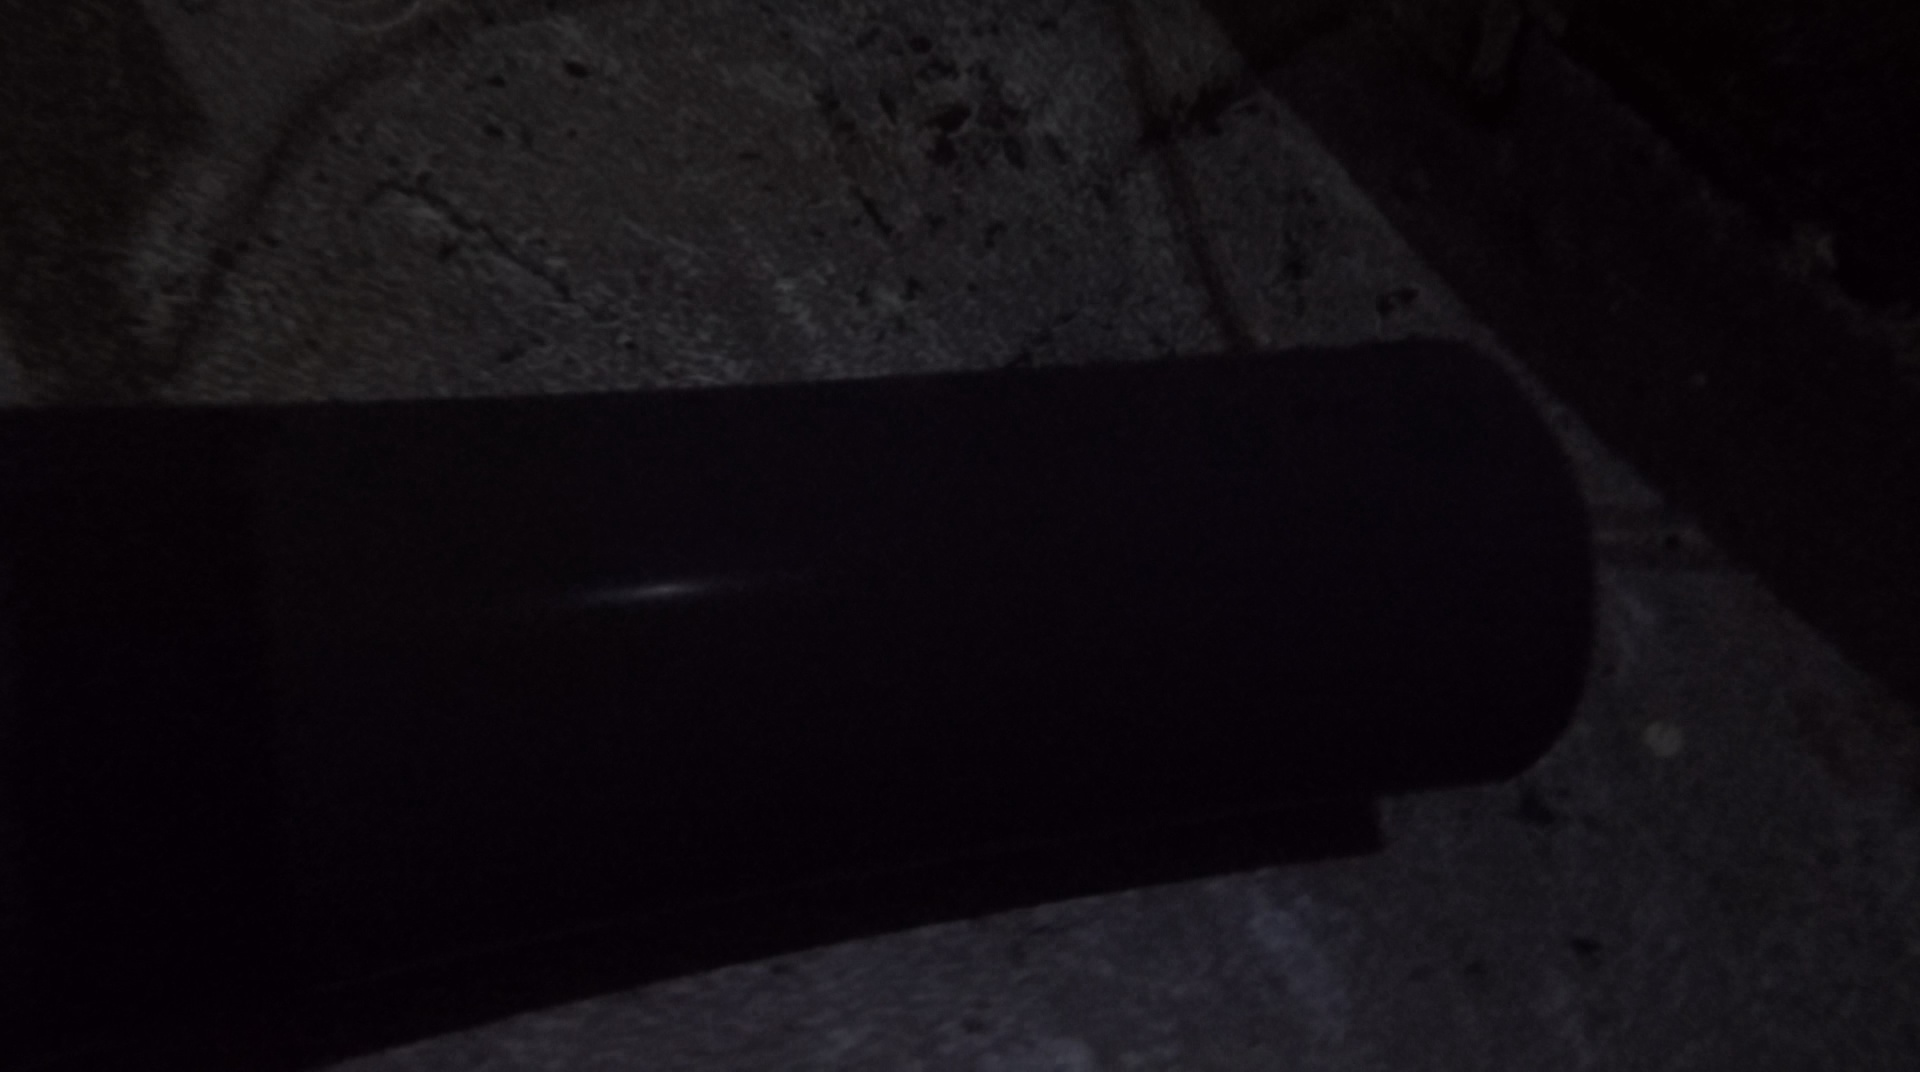pipe: (1, 338, 1600, 1071)
